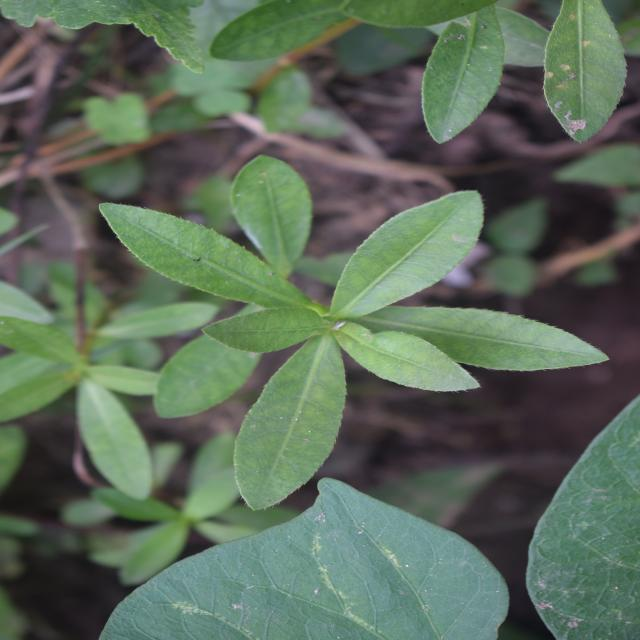Alligatorweed: (176, 110, 472, 556)
